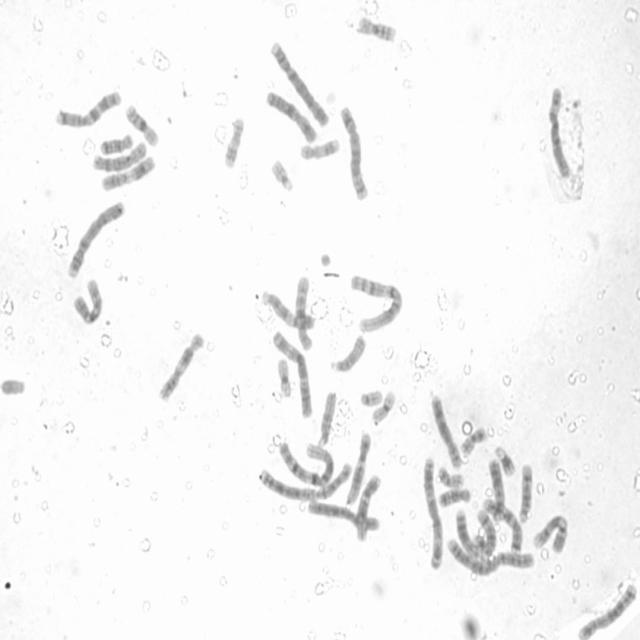A1: (348, 270, 404, 332), (276, 439, 336, 489)
A2: (256, 459, 353, 501), (444, 535, 536, 577)
A3: (270, 328, 314, 420), (421, 454, 445, 571)
B4: (268, 39, 330, 128), (65, 197, 126, 280)
B5: (576, 579, 638, 639), (338, 102, 370, 202)
C10: (71, 274, 104, 326), (293, 272, 314, 350)
C11: (155, 330, 205, 405), (99, 153, 157, 192)
C12: (344, 427, 372, 505), (352, 472, 382, 543)
C6: (305, 496, 382, 534), (545, 83, 574, 182)
C7: (53, 86, 122, 129), (481, 495, 523, 554)
C8: (429, 393, 463, 470), (90, 140, 147, 173)
C9: (259, 287, 317, 331), (530, 512, 569, 554)
D13: (456, 512, 484, 559), (486, 458, 507, 507)
D14: (515, 460, 534, 524), (474, 507, 497, 557)
D15: (328, 332, 367, 373), (315, 389, 337, 446)
E16: (122, 101, 160, 149), (355, 13, 397, 44)
E17: (222, 114, 245, 169), (298, 134, 340, 162)
E18: (98, 132, 134, 156), (436, 484, 472, 508)
F19: (370, 388, 396, 424), (276, 354, 292, 399)
F20: (459, 424, 487, 456), (435, 463, 465, 489)
G21: (492, 443, 517, 477), (491, 501, 505, 523)
G22: (269, 156, 294, 193), (358, 387, 384, 408)
X: (263, 86, 318, 142)
Y: (0, 378, 26, 397)
